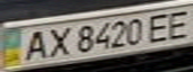0: (124, 16, 151, 47)
2: (109, 17, 133, 50)
4: (93, 20, 115, 52)
8: (72, 22, 96, 54)
A: (18, 28, 51, 62)
E: (142, 11, 178, 43), (160, 7, 193, 40)
X: (42, 25, 72, 60)
